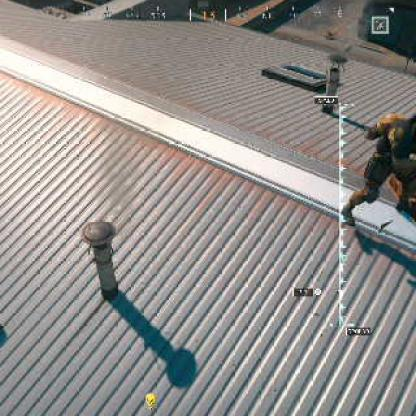enemy: (343, 107, 416, 218)
